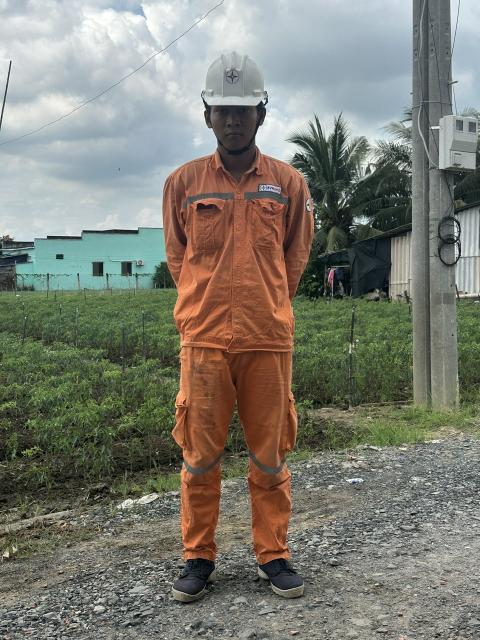helmet: (198, 35, 289, 115)
shoes: (244, 541, 321, 618), (166, 543, 232, 617)
